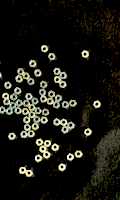nut: (19, 167, 27, 175), (39, 146, 47, 154), (36, 139, 44, 147), (8, 133, 16, 141), (20, 131, 28, 139), (33, 116, 41, 124), (28, 111, 36, 119), (62, 101, 70, 109), (59, 81, 67, 89), (54, 76, 62, 84), (59, 72, 67, 80), (53, 68, 61, 76), (82, 50, 90, 58), (29, 60, 37, 68), (48, 53, 56, 61), (25, 170, 33, 177), (59, 164, 66, 172), (35, 155, 42, 163), (75, 151, 83, 158), (44, 151, 51, 159), (52, 144, 59, 152), (44, 140, 51, 148), (62, 126, 69, 134), (68, 122, 75, 130), (61, 119, 68, 127), (53, 119, 61, 126), (24, 124, 31, 132), (32, 123, 39, 131), (23, 117, 31, 124), (6, 108, 13, 116), (15, 107, 22, 115), (15, 100, 23, 107), (9, 102, 16, 110), (3, 99, 11, 106), (2, 93, 10, 100), (10, 94, 18, 101), (69, 100, 77, 107), (53, 101, 60, 109), (48, 91, 56, 98), (31, 98, 39, 105), (14, 87, 21, 95), (4, 82, 12, 89), (40, 81, 47, 89), (27, 78, 34, 86), (15, 76, 23, 83), (22, 73, 30, 80), (17, 69, 25, 76), (34, 70, 42, 77), (41, 45, 48, 53), (67, 154, 74, 161), (85, 129, 92, 136), (28, 131, 35, 138), (41, 117, 48, 124), (22, 109, 29, 116), (35, 108, 42, 115), (42, 109, 49, 116), (23, 100, 30, 107), (94, 101, 101, 108), (47, 98, 54, 105), (55, 95, 62, 102), (40, 96, 47, 103), (39, 89, 46, 96), (28, 105, 36, 111), (25, 94, 33, 100), (0, 107, 6, 114), (0, 72, 2, 79)
